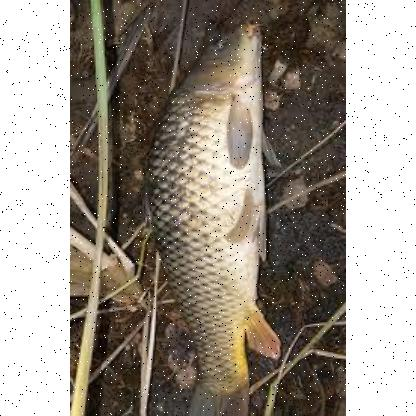ikan-mas: (143, 10, 275, 412)
